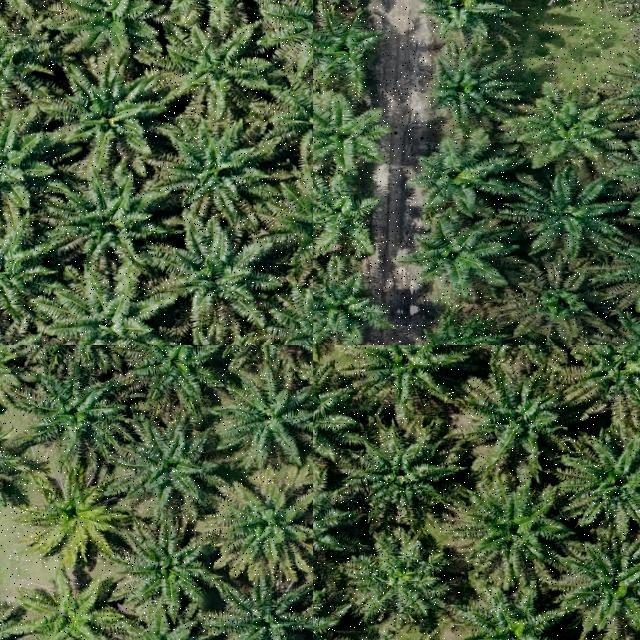Ganoderma: (33, 483, 114, 550), (36, 587, 115, 640)
